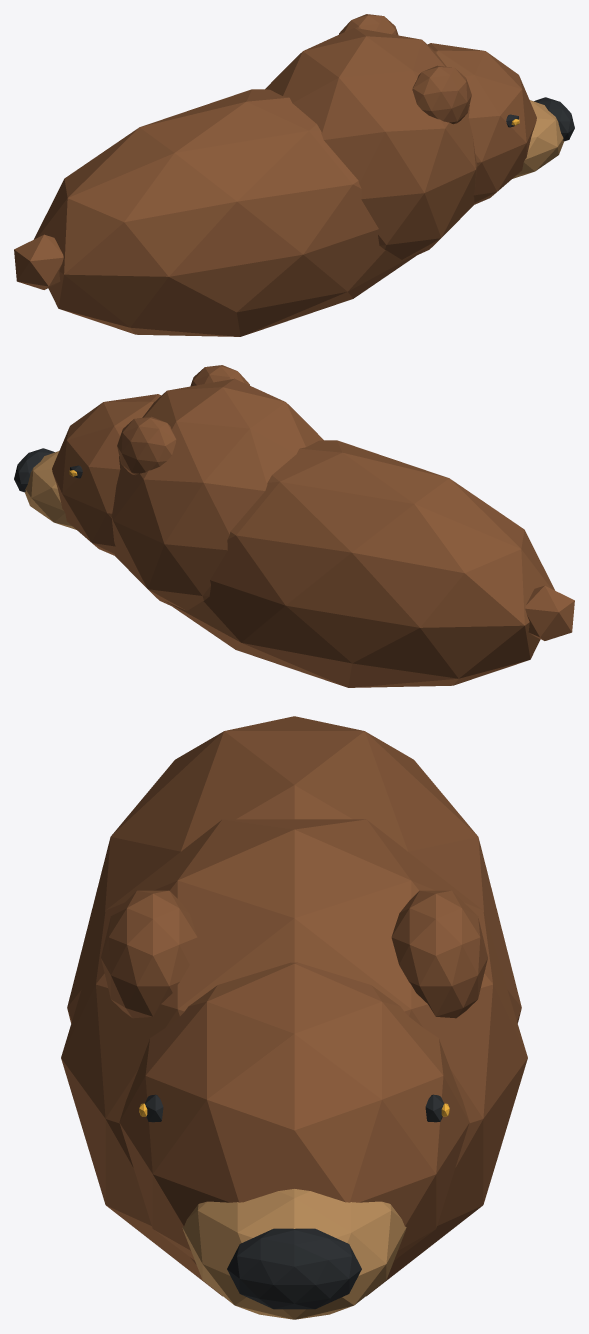
Rendered from SM_Bear_Body.fbx.
3 renders of one model, top to bottom at view 1: azimuth 30°, elevation 25°; view 2: azimuth 150°, elevation 25°; view 3: azimuth 270°, elevation 25°, orthographic. The views are drawn at different scales.
Visible parts, largest first — view 1: SM_Bear_Body; view 2: SM_Bear_Body; view 3: SM_Bear_Body.
Boxes of the visible parts, box(x1,y1,x2,y2) form: SM_Bear_Body: box(14, 14, 574, 336); SM_Bear_Body: box(14, 365, 574, 687); SM_Bear_Body: box(61, 716, 527, 1319).
Bounding box in the file's own units: 207 × 93 × 76.
